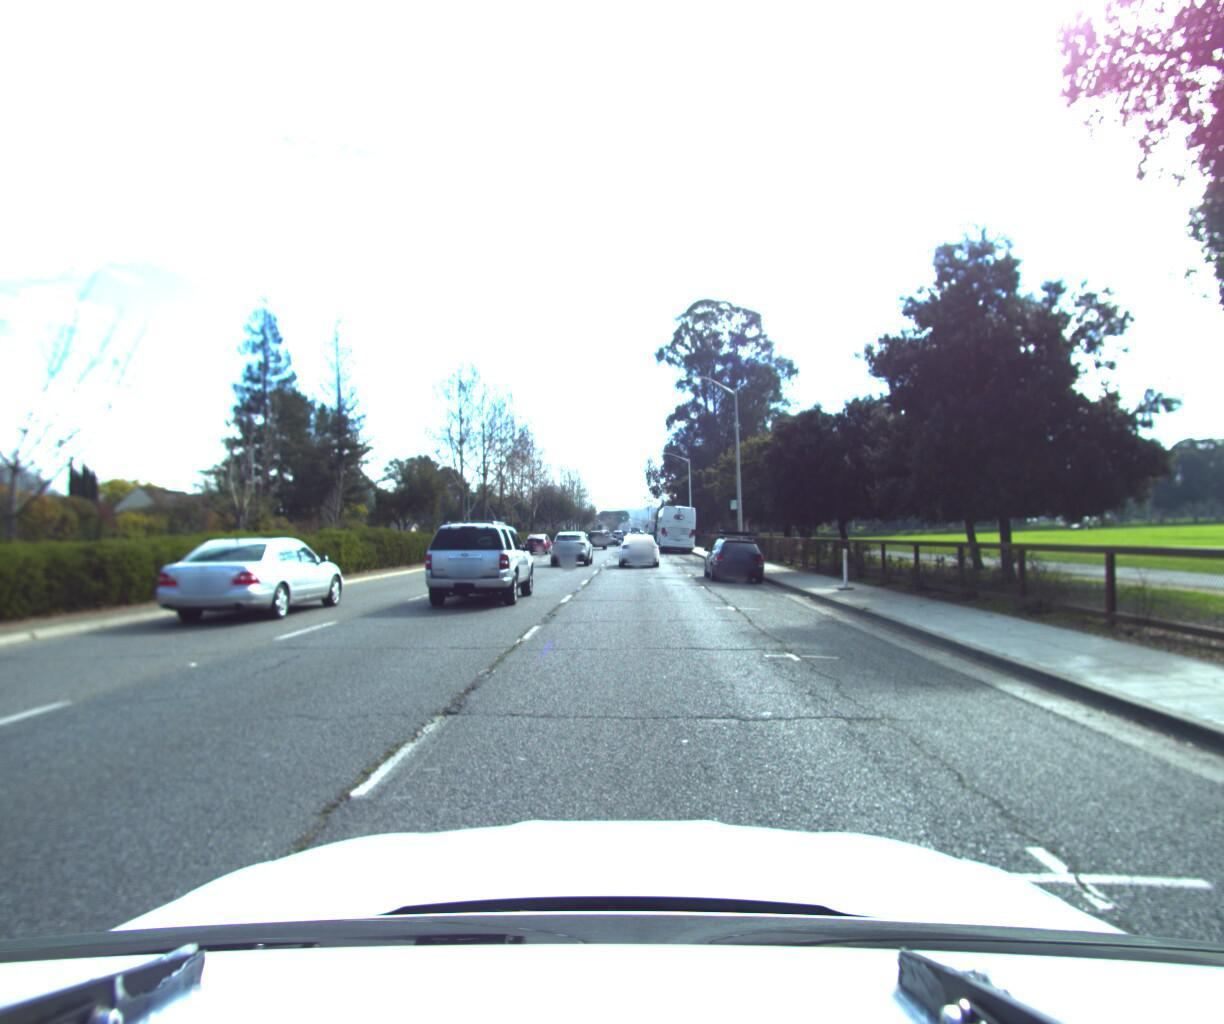bus: (653, 500, 699, 550)
car: (154, 534, 352, 631), (418, 513, 540, 610), (701, 524, 764, 581), (545, 529, 592, 566), (615, 529, 658, 564), (521, 529, 554, 551), (585, 528, 608, 548)
